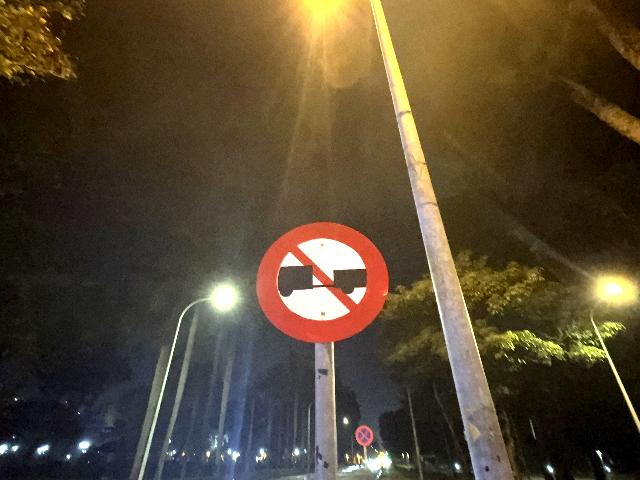cam-xe-somi-romooc: (257, 221, 389, 345)
